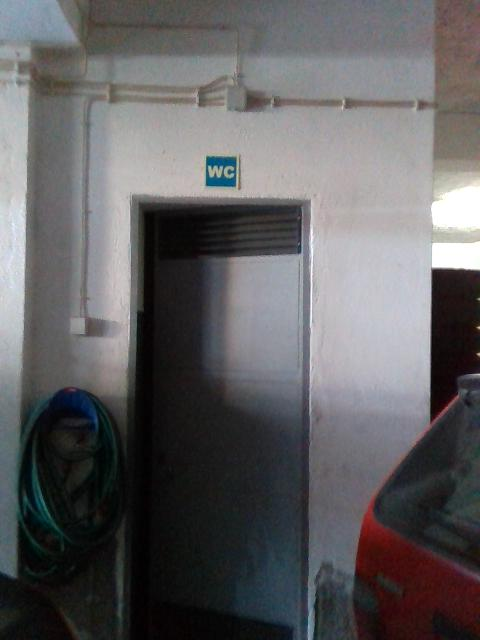door: (139, 200, 306, 636)
